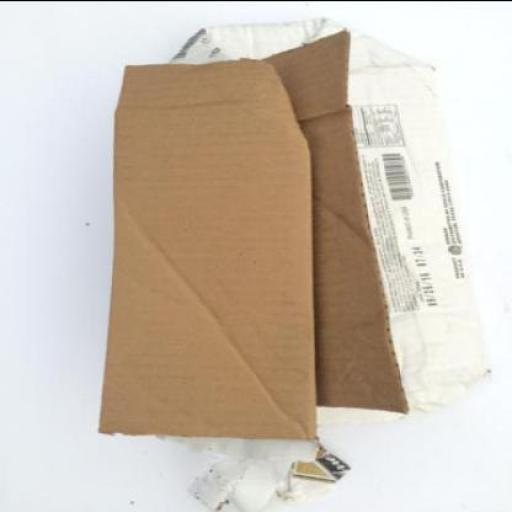cardboard: (101, 26, 411, 439), (100, 59, 320, 435)
